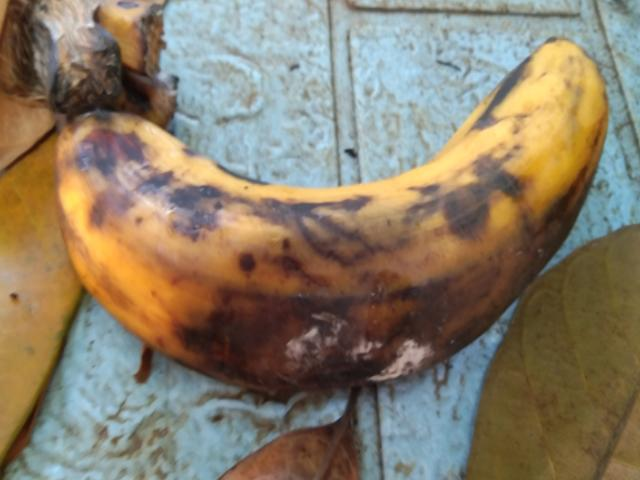rotten: (52, 32, 639, 424)
